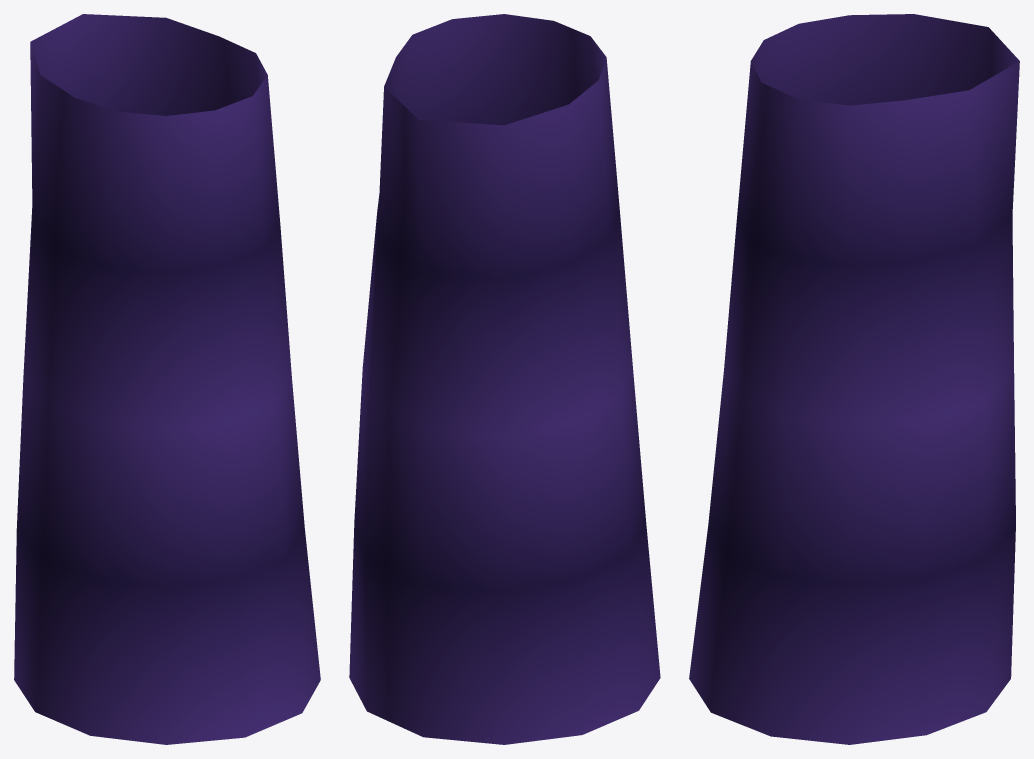
File: beetle_armor_greave.L.glb
The picture shows the model from 3 angles, left to right: view 1: azimuth 30°, elevation 25°; view 2: azimuth 150°, elevation 25°; view 3: azimuth 270°, elevation 25°; orthographic projection. The views are drawn at different scales.
Parts seen in each view (by area): view 1: beetle_armor_greave.L; view 2: beetle_armor_greave.L; view 3: beetle_armor_greave.L.
Boxes of the visible parts, x1,y1,x2,y2 form: beetle_armor_greave.L: (14,14,320,744); beetle_armor_greave.L: (349,14,660,744); beetle_armor_greave.L: (689,14,1019,744).
Bounding box in the file's own units: 0.1721 × 0.3767 × 0.1828.
